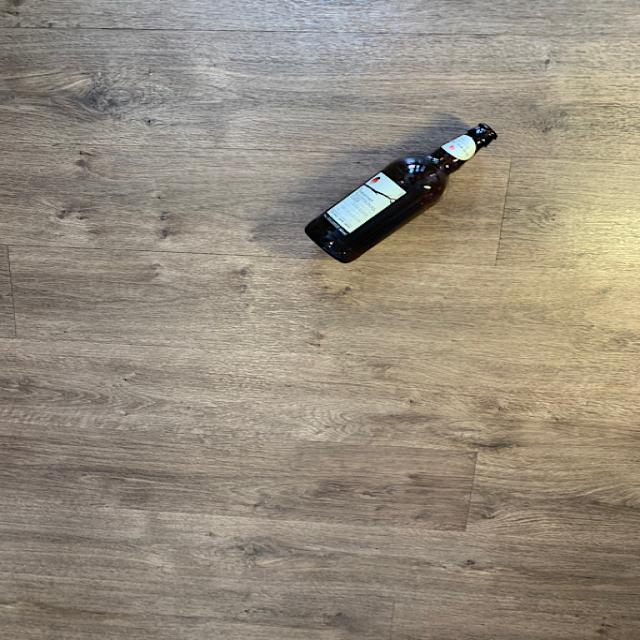litter: (300, 122, 495, 264)
